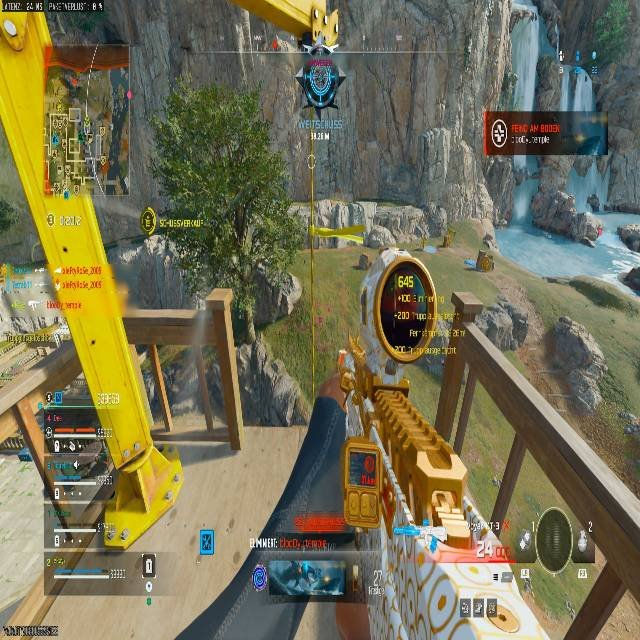head: (299, 31, 313, 46)
player: (586, 192, 599, 212)
